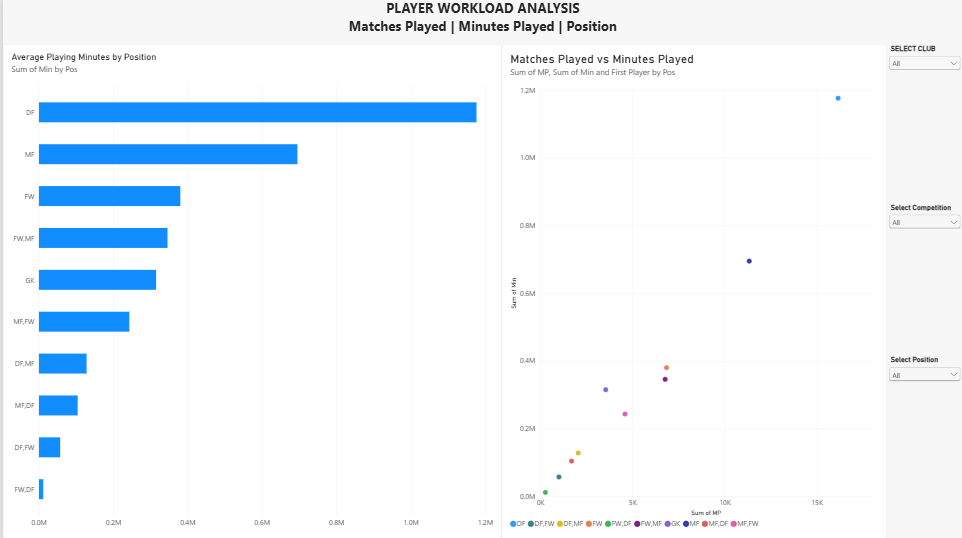

The page's visual inventory and layout, read from the dashboard file:
{"tool":"powerbi","page":{"name":"Workload Analysis","canvas":[1920,1080],"ordinal":2},"visuals":[{"type":"clusteredBarChart","title":"Average Playing Minutes by Position","fields":{"Category":["football_players_cleaned.Pos"],"Y":["Sum(football_players_cleaned.Min)"]},"box":[0,90,997.5,990],"z":0},{"type":"scatterChart","title":"Matches Played vs Minutes Played","fields":{"Series":["football_players_cleaned.Pos"],"X":["Sum(football_players_cleaned.MP)"],"Y":["Sum(football_players_cleaned.Min)"]},"box":[997.6,89.7,770.1,991.3],"z":1000},{"type":"textbox","box":[0,0,1920,90],"z":2000},{"type":"slicer","fields":{"Values":["football_players_cleaned.Squad"]},"box":[1767.7,89.7,152.3,317.2],"z":2001},{"type":"slicer","fields":{"Values":["football_players_cleaned.Comp"]},"box":[1767.7,407,152.3,304.7],"z":2002},{"type":"slicer","fields":{"Values":["football_players_cleaned.Pos"]},"box":[1767.7,711.7,152.3,367.3],"z":2003}]}

Visuals, with their boxes in screenshot pixels (x1, y1, x2, y2), scaled from the page's 1920x1080 canvas onto the 962x538 screenshot:
"Average Playing Minutes by Position" clusteredBarChart: 0, 45, 500, 537
"Matches Played vs Minutes Played" scatterChart: 500, 45, 886, 537
textbox: 0, 0, 961, 45
slicer - football_players_cleaned.Squad: 886, 45, 961, 203
slicer - football_players_cleaned.Comp: 886, 203, 961, 355
slicer - football_players_cleaned.Pos: 886, 355, 961, 537
